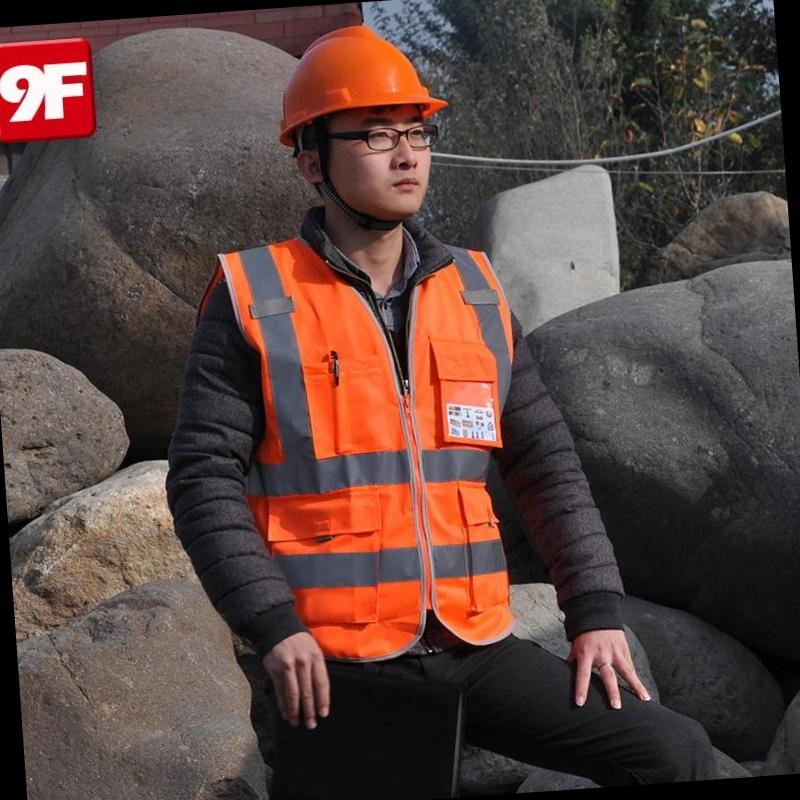Vest: (201, 222, 526, 654)
